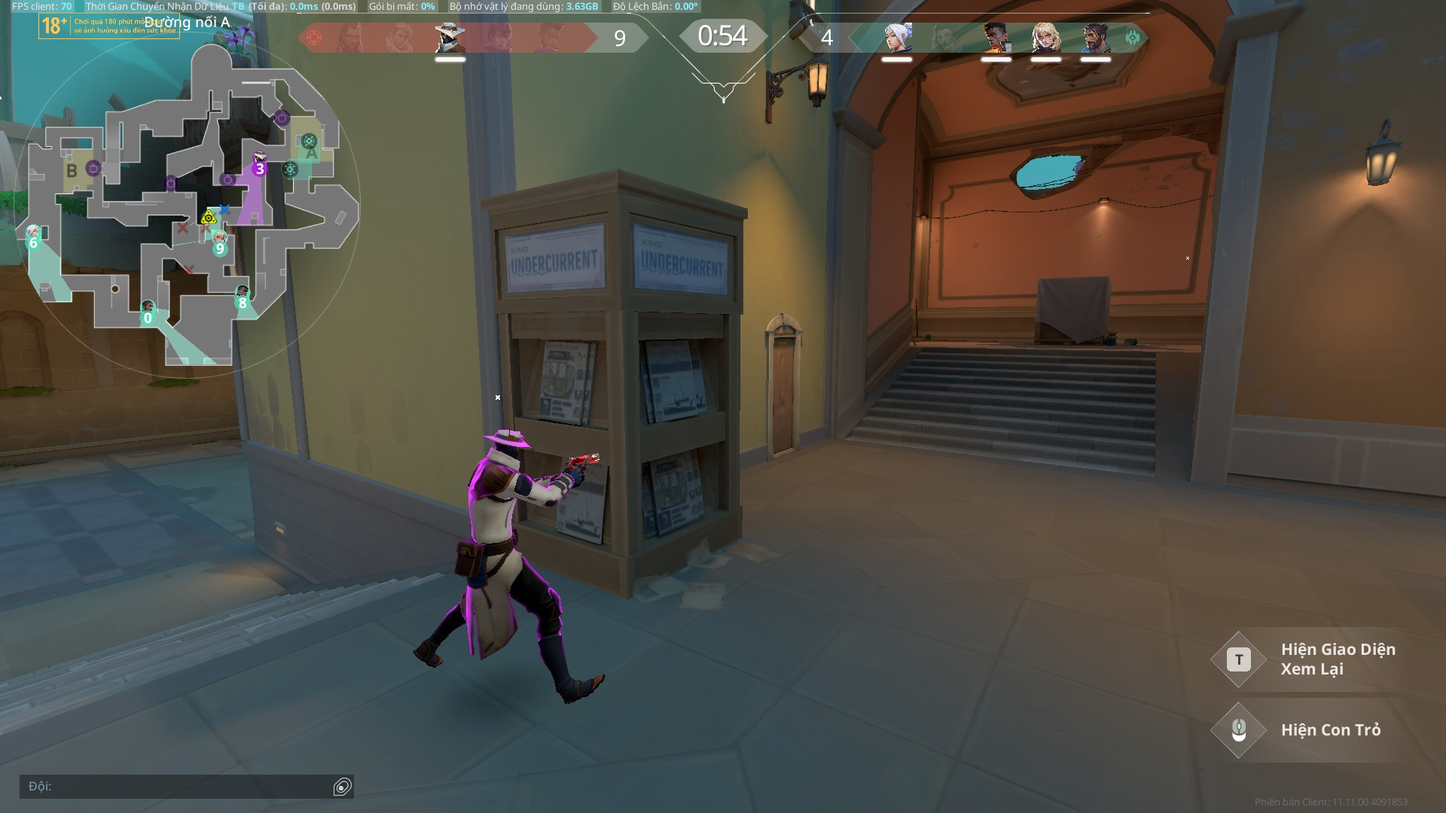body: (464, 455, 524, 541)
head: (492, 430, 525, 458)
